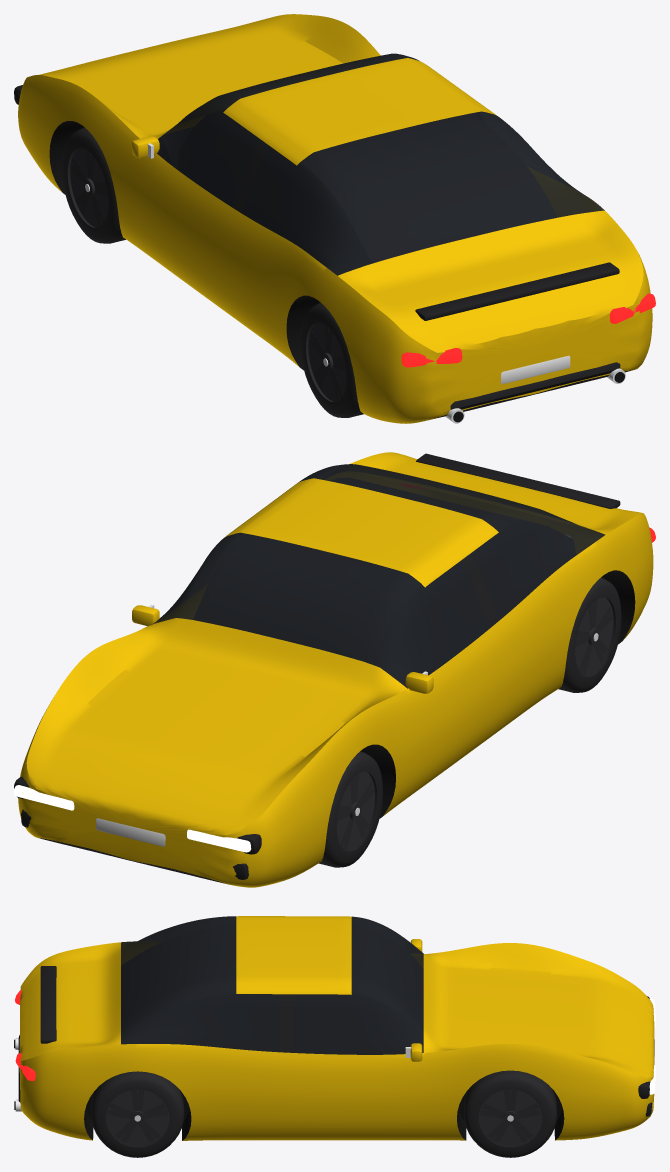
Rendered from chevrolet_camaro_lt.glb.
3 renders of one model, top to bottom at view 1: azimuth 30°, elevation 25°; view 2: azimuth 150°, elevation 25°; view 3: azimuth 270°, elevation 25°, orthographic. The views are drawn at different scales.
Parts seen in each view (by area): view 1: Body, Wheel_FL, Wheel_RL; view 2: Body, Wheel_FL, Wheel_RL; view 3: Body, Wheel_FR, Wheel_RR.
Part boxes in pixels (<box>): Body: <box>14,14,655,423</box>; Wheel_FL: <box>62,127,125,243</box>; Wheel_RL: <box>300,303,363,417</box>; Body: <box>14,452,655,887</box>; Wheel_FL: <box>318,751,382,867</box>; Wheel_RL: <box>558,577,621,692</box>; Body: <box>14,916,655,1140</box>; Wheel_FR: <box>464,1070,556,1157</box>; Wheel_RR: <box>91,1071,184,1157</box>.
Bounding box in the file's own units: 2.02 × 1.35 × 4.84.
